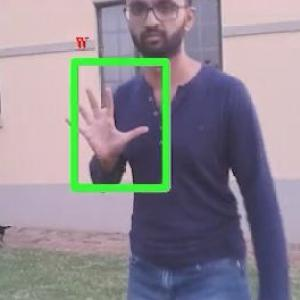follow_hand: (61, 81, 152, 169)
